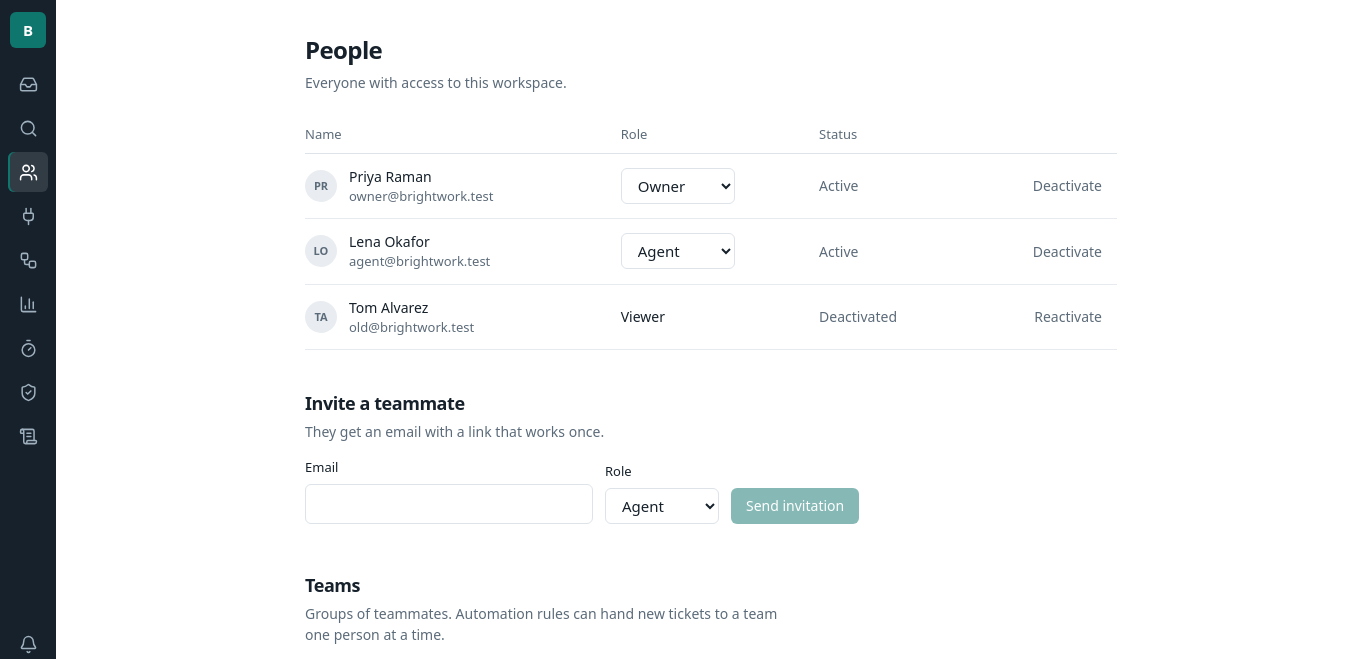
people › changes a role and explains why the last owner cannot be demoted
This screenshot has width=1366, height=659.
expect the text "Lena Okafor" is shown: met, box 349,232 -> 430,251
Select "Admin" in the dropdown named "Role for Lena Okafor" at (678, 251), box 621,233 -> 735,269
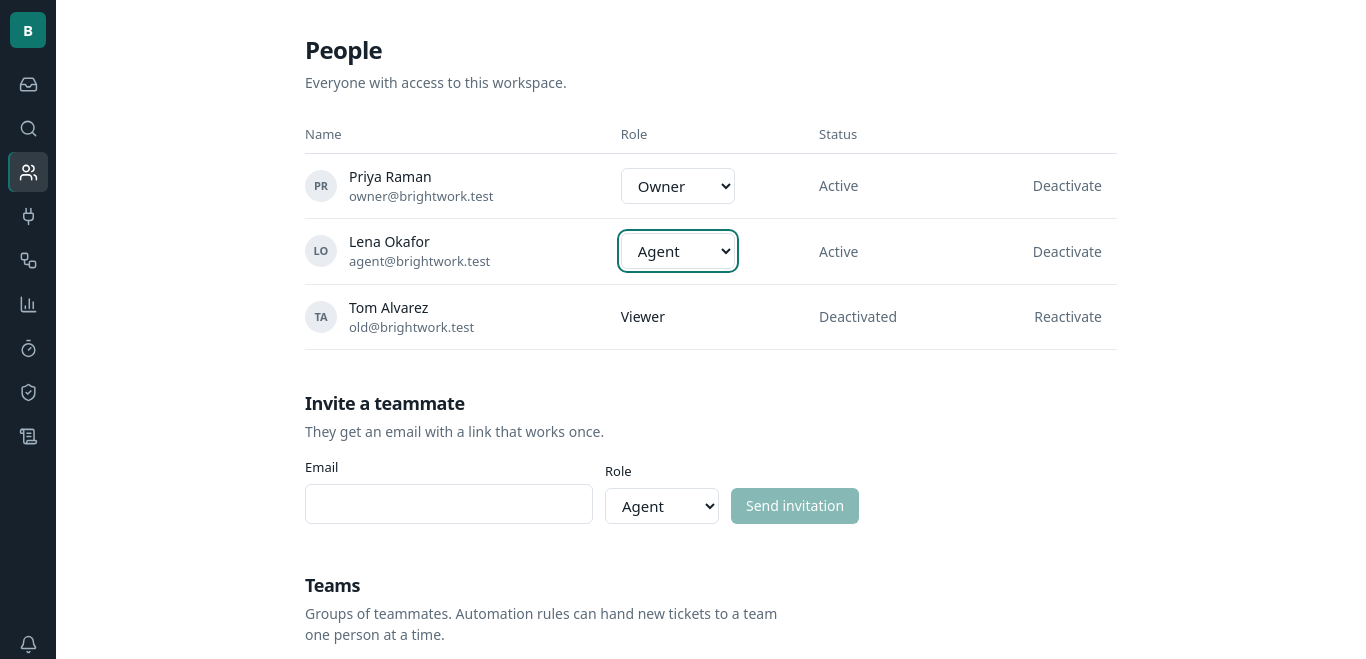
Select "Admin" in the dropdown named "Role for Priya Raman" at (678, 186), box 621,168 -> 735,204
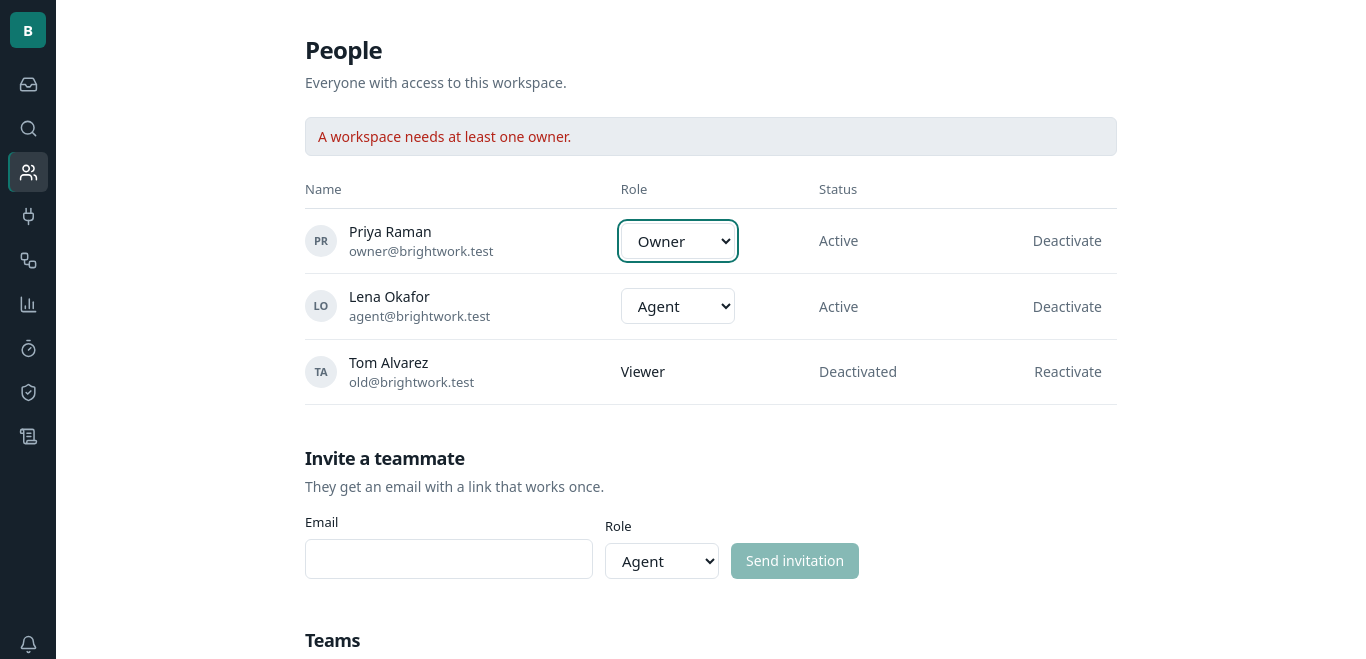
expect the message reads "A workspace needs at least one owner.": met, box 318,127 -> 571,146
